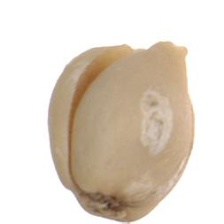L1: (109, 41, 189, 68), (76, 191, 128, 221)
L2: (48, 42, 195, 223)
